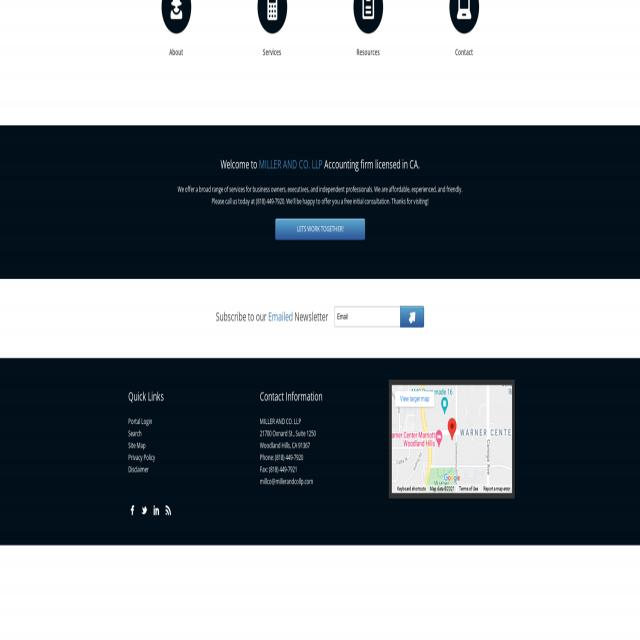button: (275, 218, 365, 239), (161, 0, 191, 33), (257, 0, 287, 33), (353, 0, 383, 33), (449, 0, 479, 33), (400, 306, 424, 327), (447, 417, 458, 442), (128, 502, 137, 518), (140, 502, 149, 518), (152, 502, 161, 518), (164, 502, 173, 518)
field: (334, 306, 400, 327)
